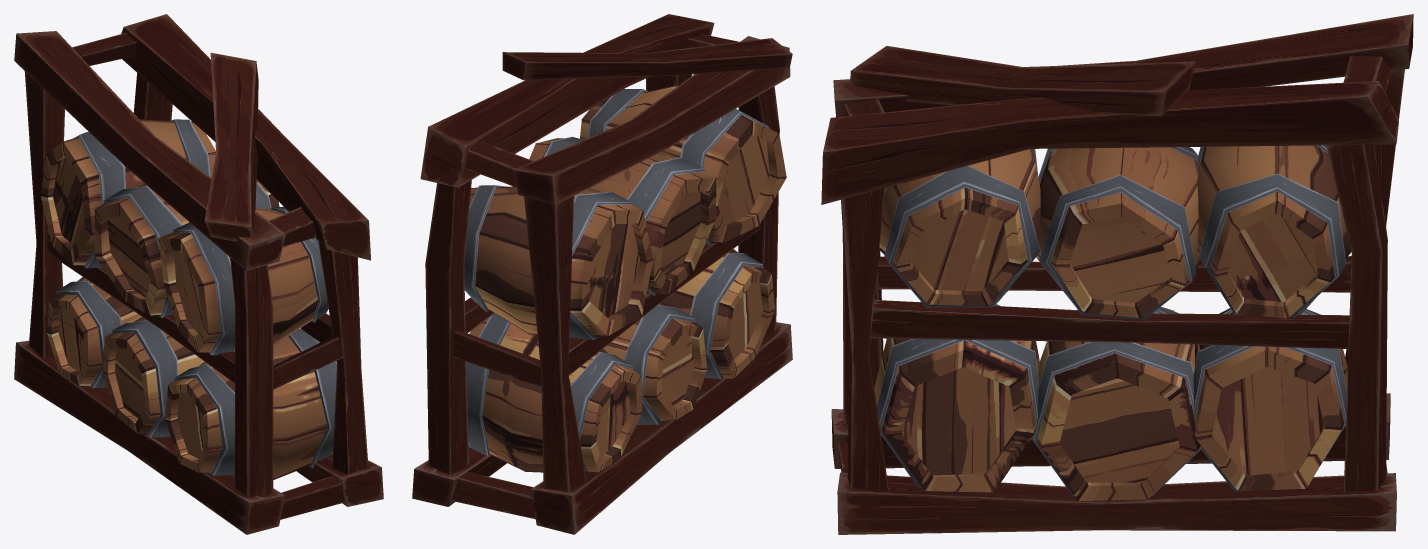
File: SM_PROP_barrel_07.fbx
3 views of the same model, side by side, from view 1: azimuth 30°, elevation 25°; view 2: azimuth 150°, elevation 25°; view 3: azimuth 270°, elevation 25° (orthographic). The views are drawn at different scales.
Visible parts, largest first — view 1: SM_PROP_barrel_07; view 2: SM_PROP_barrel_07; view 3: SM_PROP_barrel_07.
Part boxes in pixels (left/top/right/bottom): SM_PROP_barrel_07: left=14, top=14, right=383, bottom=534; SM_PROP_barrel_07: left=412, top=14, right=792, bottom=534; SM_PROP_barrel_07: left=821, top=14, right=1413, bottom=534.
Size of the model in its own units: 100 by 210 by 249.
